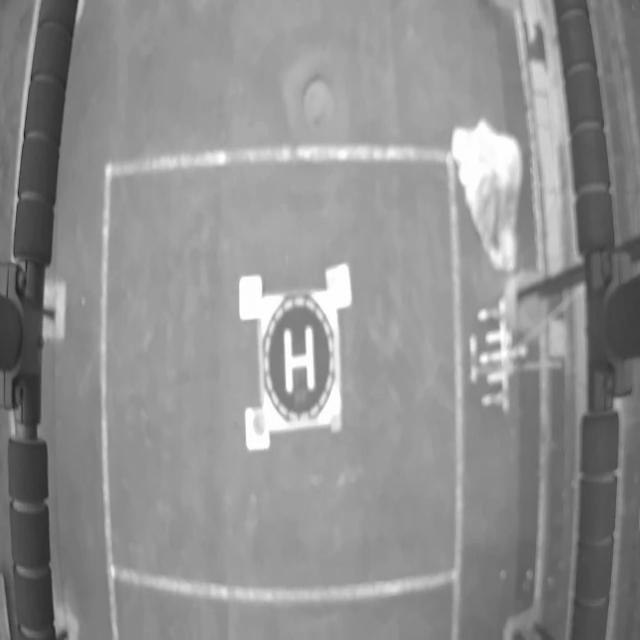Helipad: (283, 324, 316, 395)
